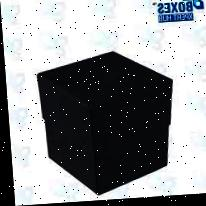cube: (33, 51, 178, 201)
